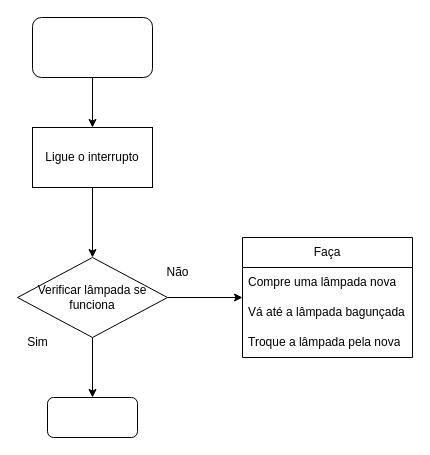
The diagram is 430 pixels wide and 455 high, and some of its shapes have lost their labels. Each missing label, with the box of its shape:
Fim: (46, 396, 138, 438)
Início: (32, 16, 152, 78)
